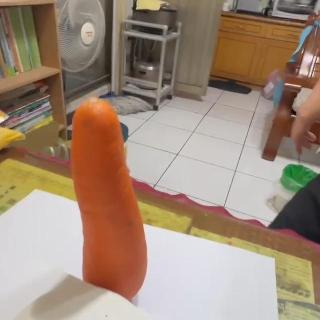carrot: (70, 96, 148, 300)
